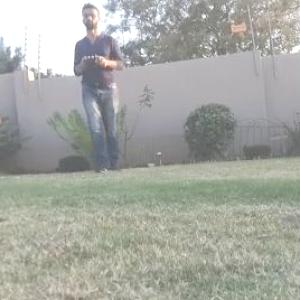follow: (68, 0, 134, 178)
